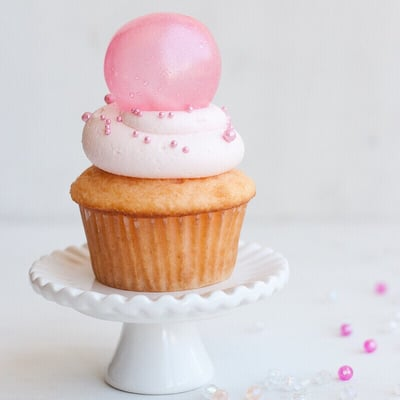sushi: (67, 7, 257, 293)
